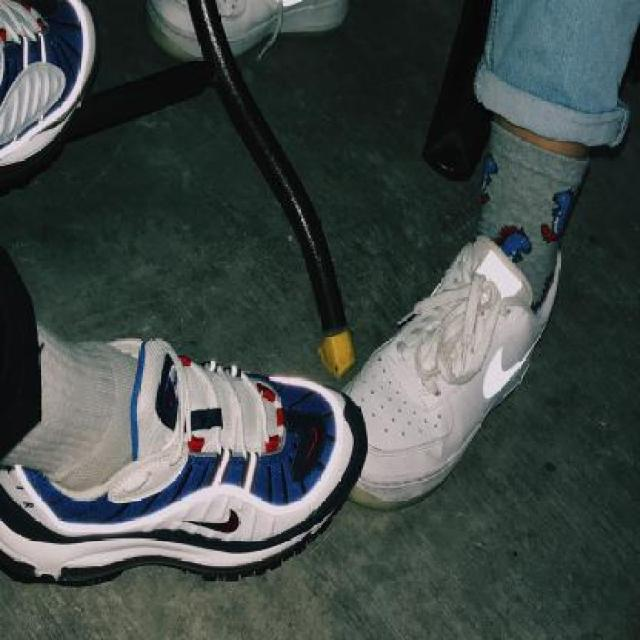shoe: (0, 335, 369, 588), (346, 235, 565, 516), (0, 2, 97, 202), (146, 0, 359, 60)
